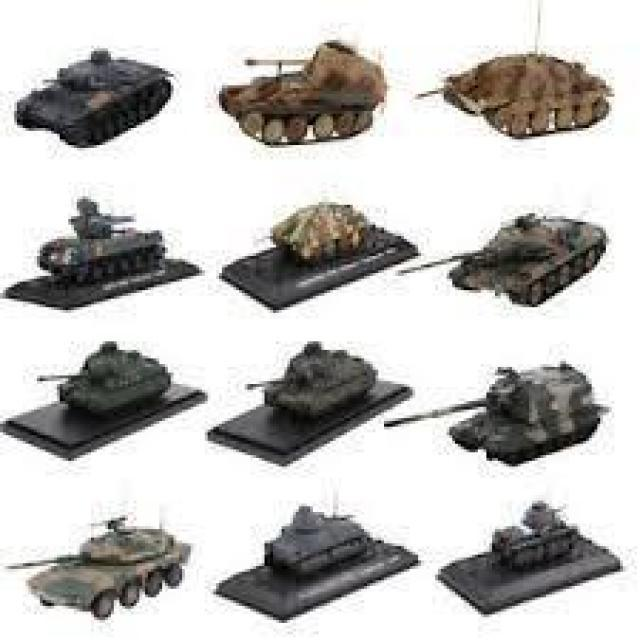MIL_MBT: (422, 43, 622, 165), (431, 201, 619, 323), (13, 41, 175, 172), (210, 38, 395, 152), (6, 515, 185, 617), (454, 364, 604, 466), (255, 492, 383, 597), (249, 333, 385, 424), (266, 203, 394, 297), (38, 346, 169, 434), (489, 482, 583, 599), (31, 201, 171, 277)
